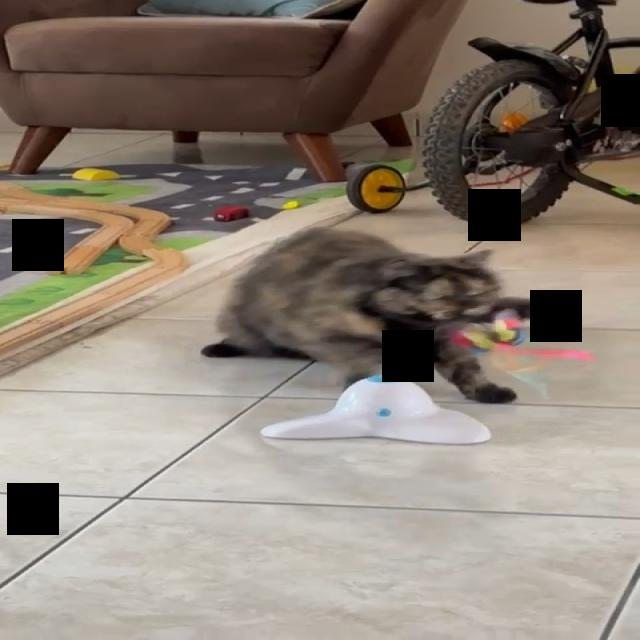authorized: (200, 225, 552, 404)
